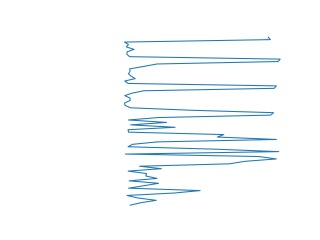crevasseRiverChannelBar: (125, 159, 269, 206)
majorRiverBedLagDeposit: (125, 120, 283, 163)
majorRiverChannelBar: (121, 35, 283, 117)
